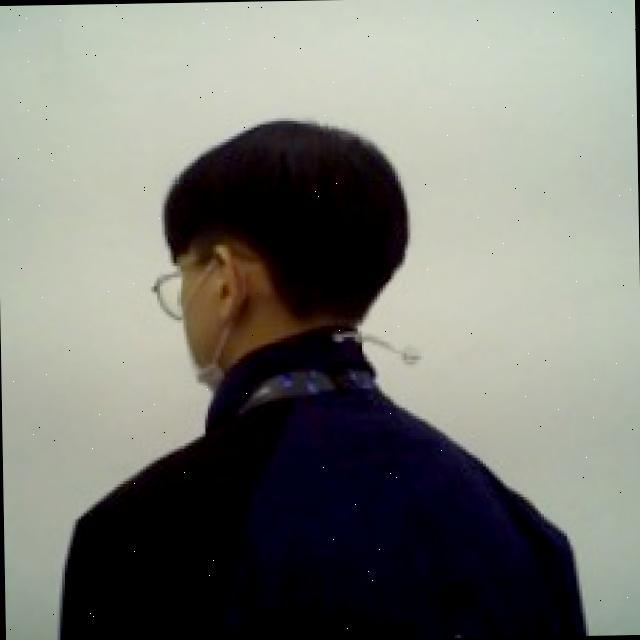no_gloves: (155, 116, 420, 327)
